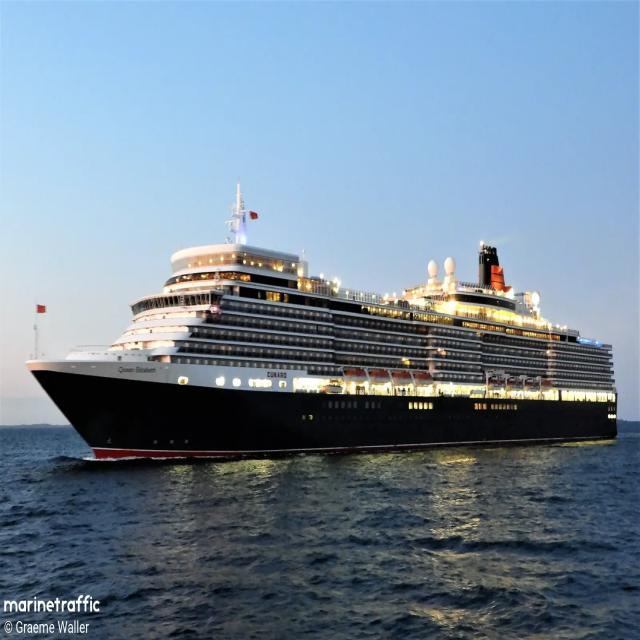Cruise: (27, 185, 617, 458)
